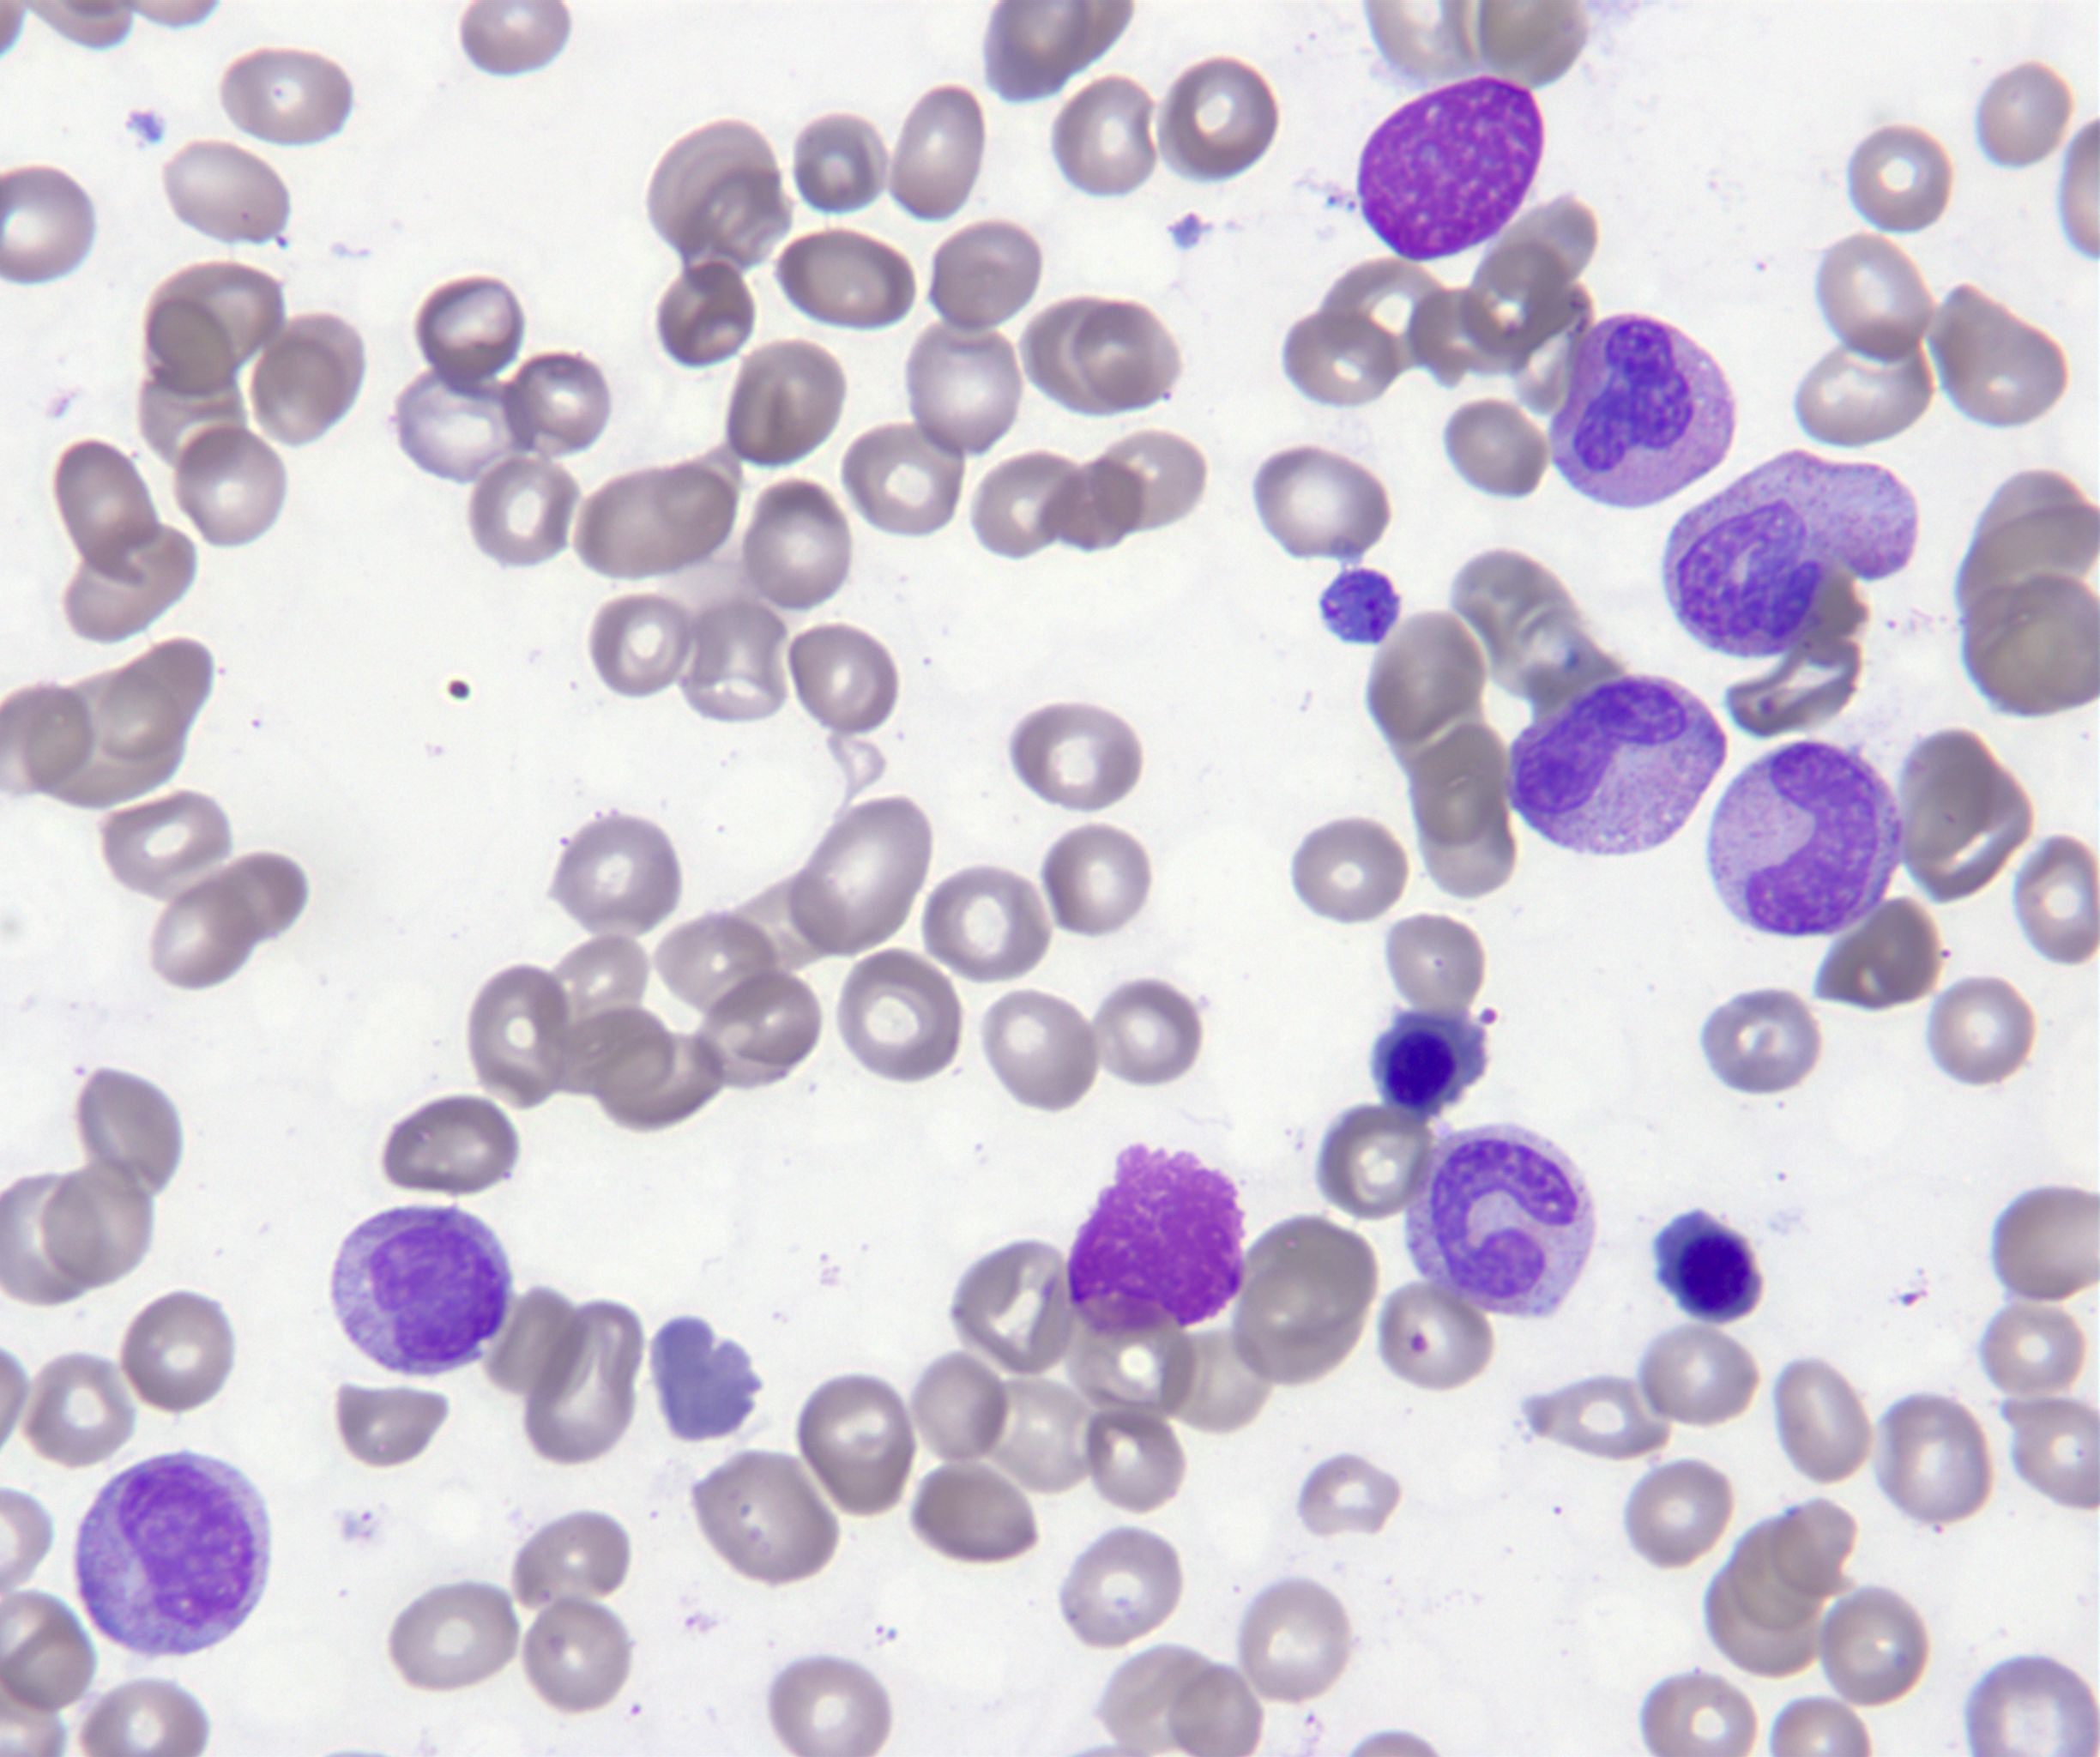24: (1655, 1209, 1767, 1328), (1367, 1010, 1486, 1117)
3: (73, 1450, 276, 1658)
4: (1507, 673, 1725, 855), (1709, 740, 1906, 939), (328, 1202, 518, 1380)
5: (1660, 454, 1920, 660), (1409, 1124, 1592, 1319)
6: (1545, 316, 1735, 509)
x: (1360, 75, 1545, 260), (1064, 1145, 1244, 1330), (1322, 569, 1401, 642)
